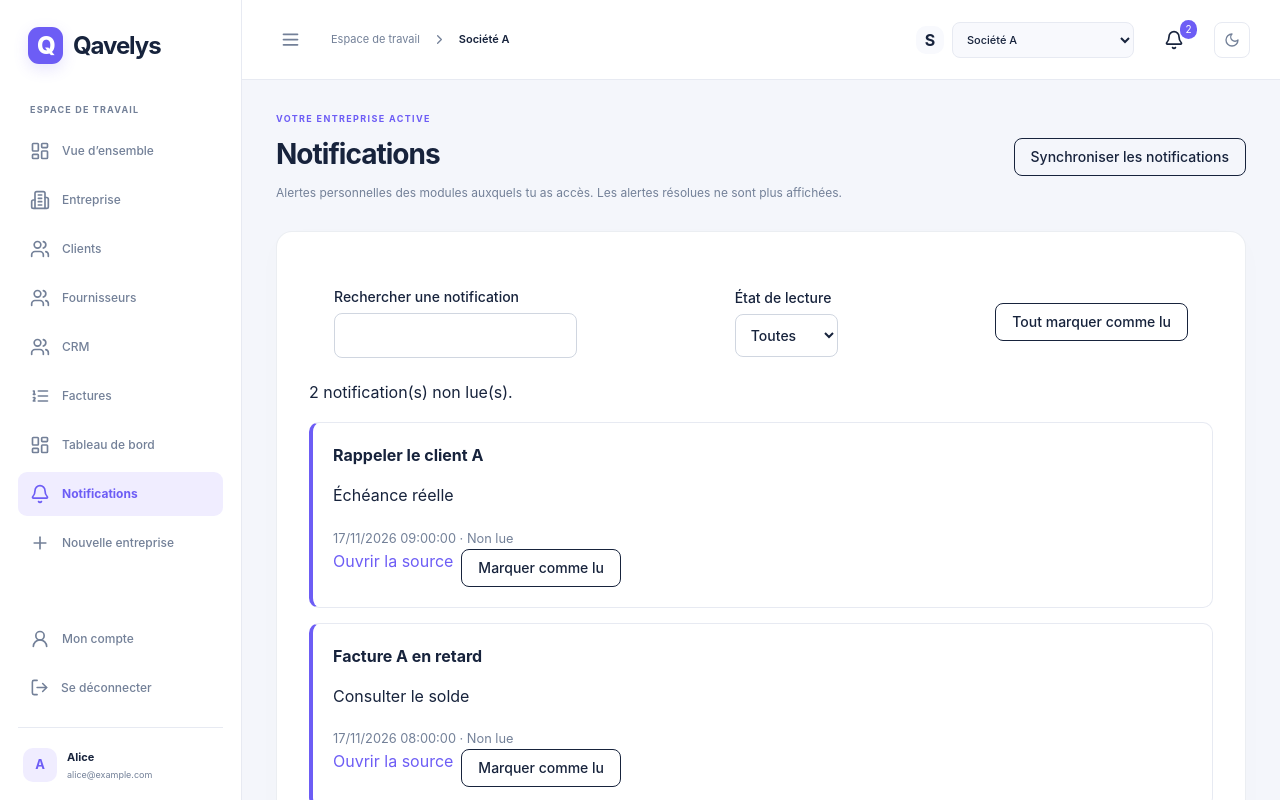
Test: Tableau de bord et notifications réels › recherche les notifications et isole leur boîte au changement d’entreprise
Check: the heading "Rappeler le client A" is shown, box [333,445,483,465]
Type "Facture" into the field labelled "Rechercher une notification" at (456, 336), box [334,313,577,358]
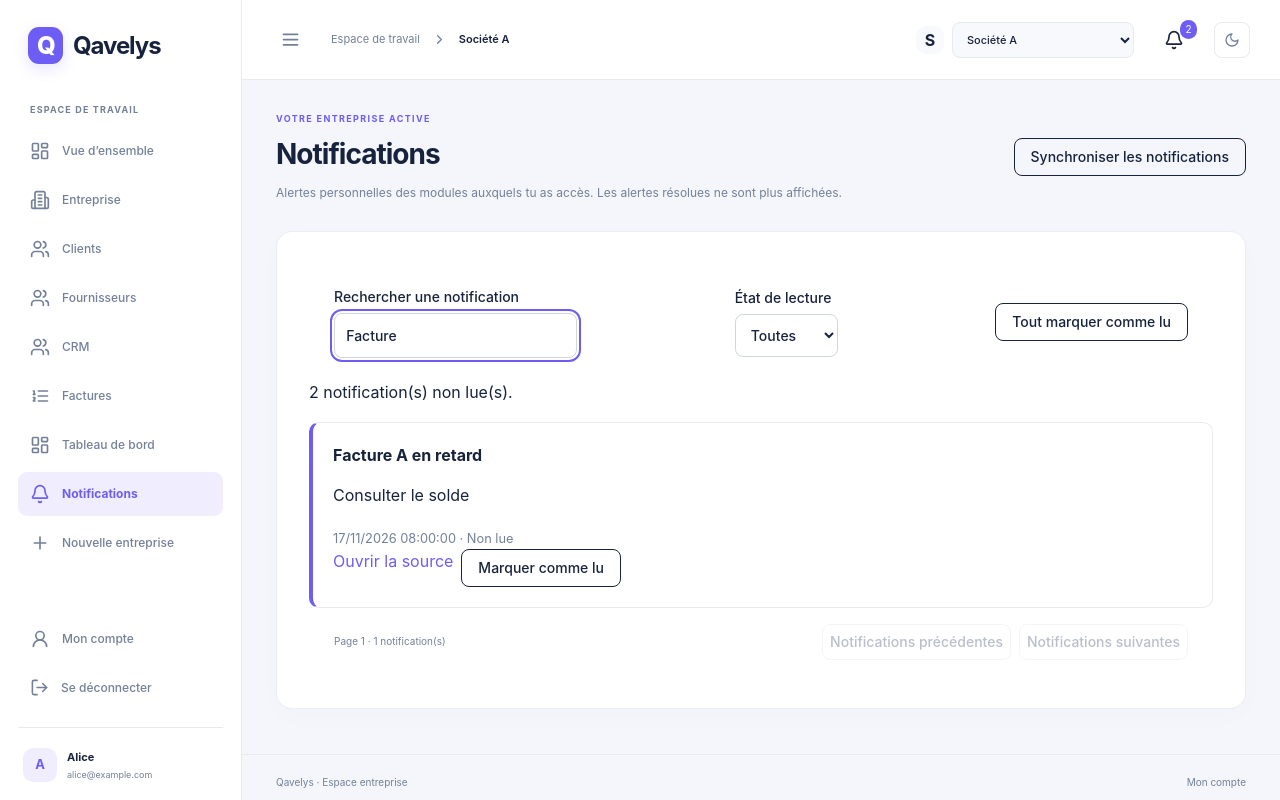
Check: the heading "Facture A en retard" is shown, box [333,445,482,465]
Check: the heading "Rappeler le client A" is gone
Select "Société B" in the dropdown named "Entreprise active" at (1043, 40), box [952,22,1134,58]
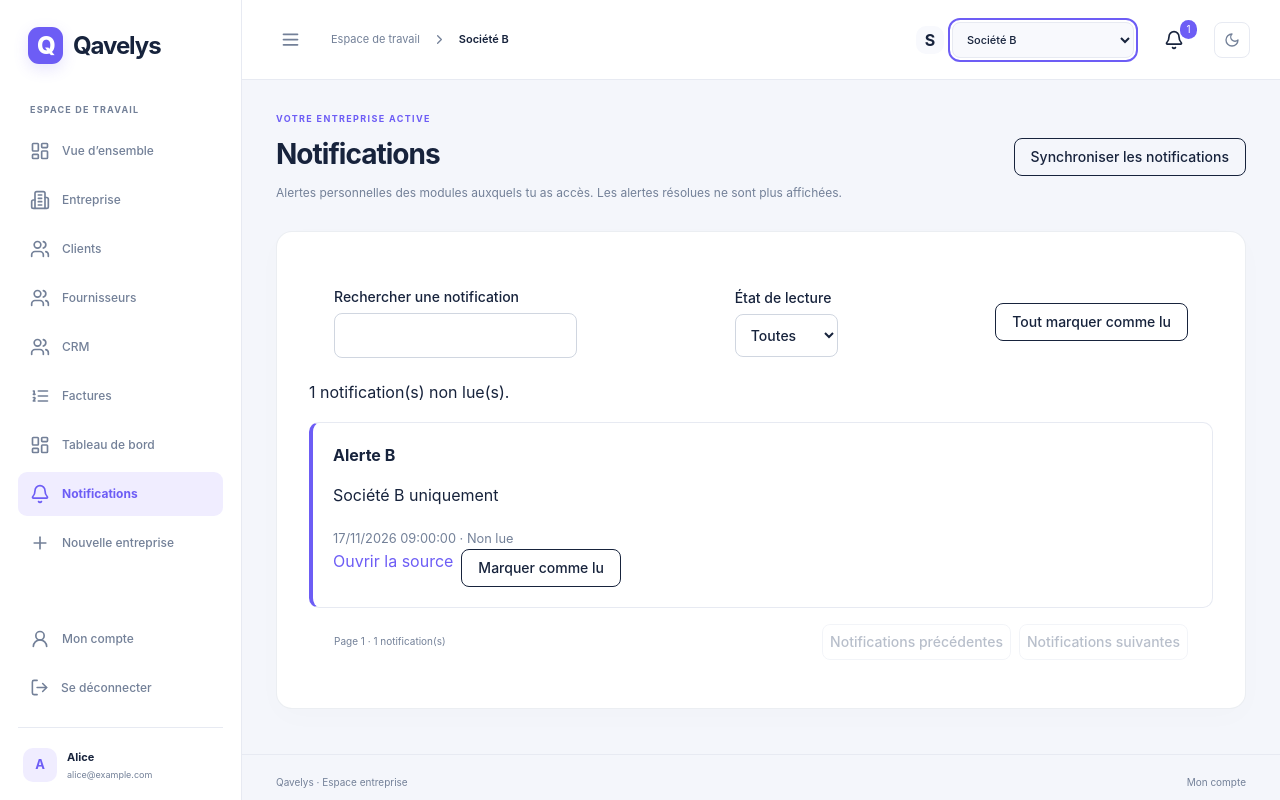
Check: the heading "Alerte B" is shown, box [333,445,395,465]
Check: the heading "Facture A en retard" is gone
